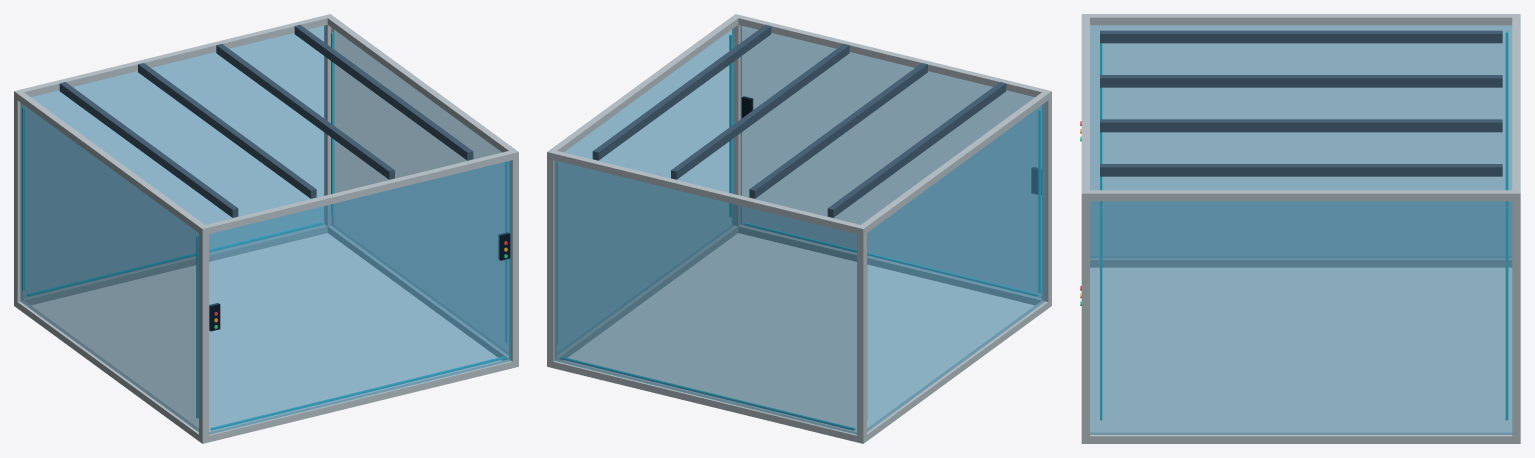
The model's file is 01_L74_TransparentLithographySafetyEnclosure.fbx.
The picture shows the model from 3 angles, left to right: view 1: azimuth 30°, elevation 25°; view 2: azimuth 150°, elevation 25°; view 3: azimuth 270°, elevation 25°; orthographic projection. The views are drawn at different scales.
Visible parts, largest first — view 1: TransparentLithographySafetyEnclosure; view 2: TransparentLithographySafetyEnclosure; view 3: TransparentLithographySafetyEnclosure.
Part boxes in pixels (x1=…): TransparentLithographySafetyEnclosure: x1=14, y1=14, x2=518, y2=443; TransparentLithographySafetyEnclosure: x1=547, y1=14, x2=1051, y2=443; TransparentLithographySafetyEnclosure: x1=1080, y1=14, x2=1520, y2=443.
Bounding box in the file's own units: 655 × 434 × 678.
